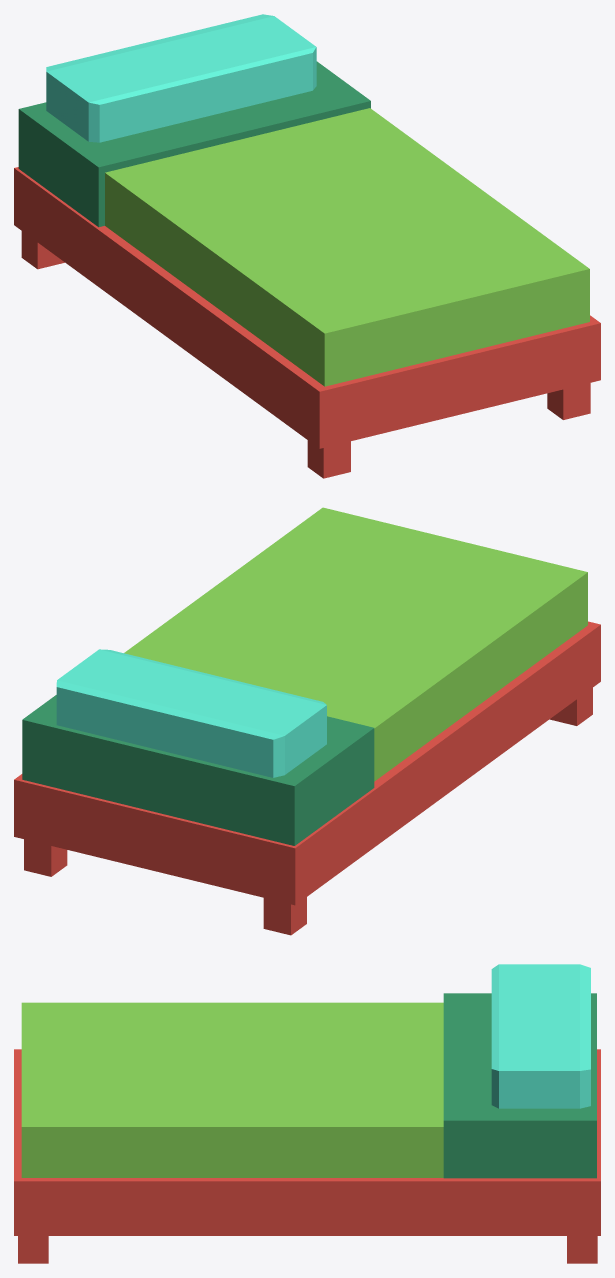
The model's file is Bed.fbx.
3 views of the same model, one above another, from view 1: azimuth 30°, elevation 25°; view 2: azimuth 150°, elevation 25°; view 3: azimuth 270°, elevation 25° (orthographic). The views are drawn at different scales.
Parts seen in each view (by area): view 1: Cube.000, Cube.001; view 2: Cube.000, Cube.001; view 3: Cube.000, Cube.001.
Part boxes in pixels (box(x1,y1,x2,y2)): Cube.000: box(14, 61, 600, 478); Cube.001: box(46, 14, 316, 142); Cube.000: box(14, 507, 600, 935); Cube.001: box(56, 649, 326, 777); Cube.000: box(14, 993, 600, 1263); Cube.001: box(491, 964, 590, 1108).
Bounding box in the file's own units: 174 × 112 × 327.
